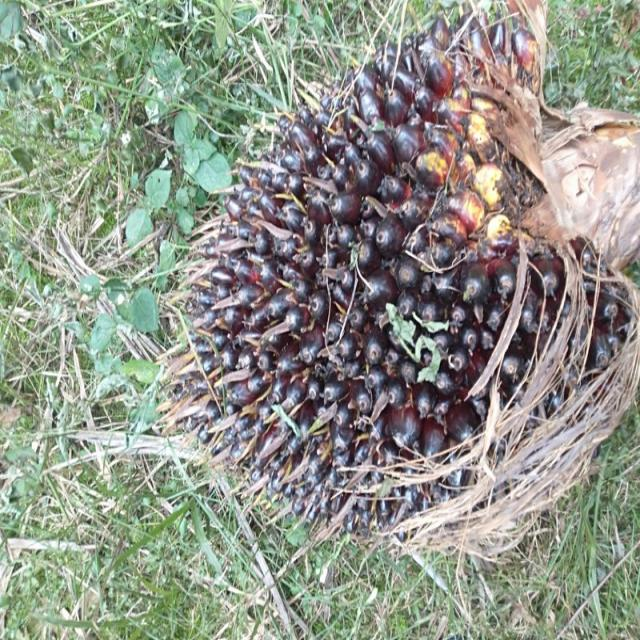fraksi 00: (171, 38, 638, 544)
